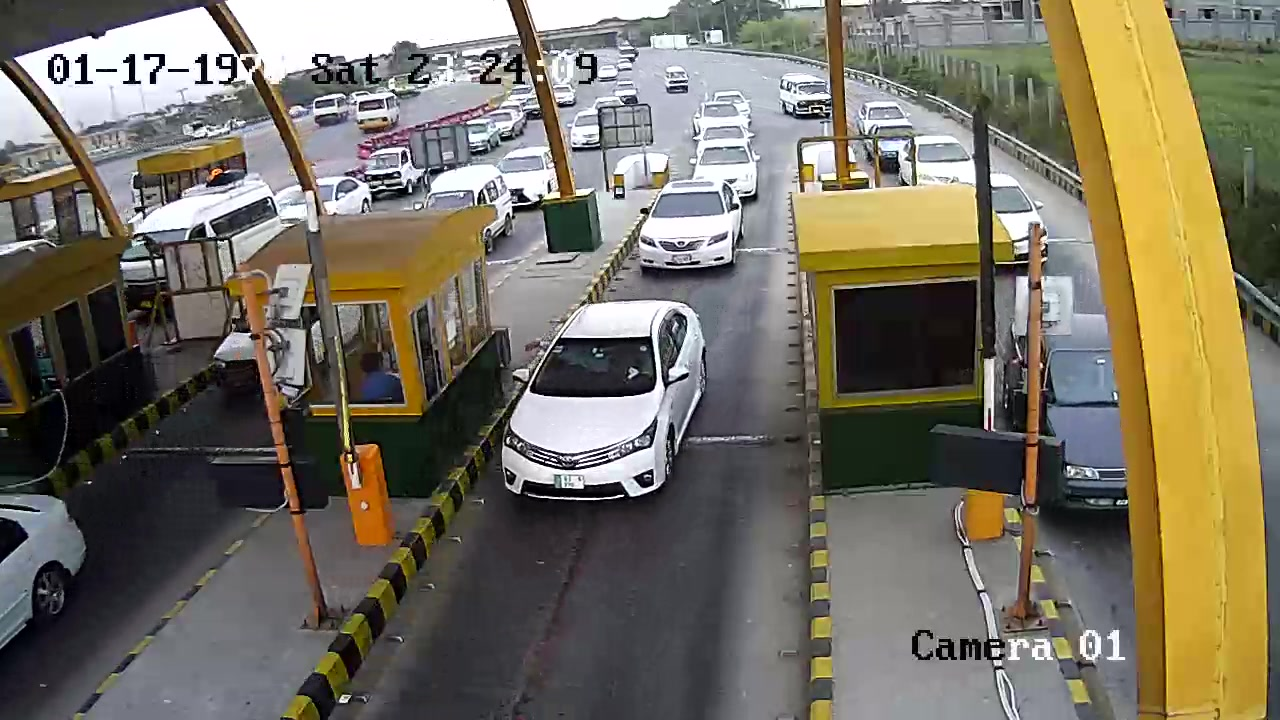F1: (493, 293, 720, 520)
